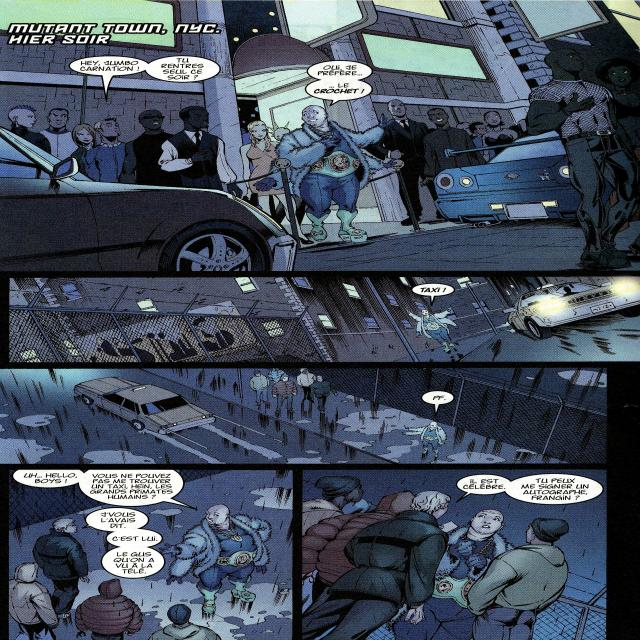comic_panel: (0, 0, 640, 272), (0, 369, 606, 462), (8, 278, 640, 362), (306, 468, 606, 640), (12, 469, 293, 640)
